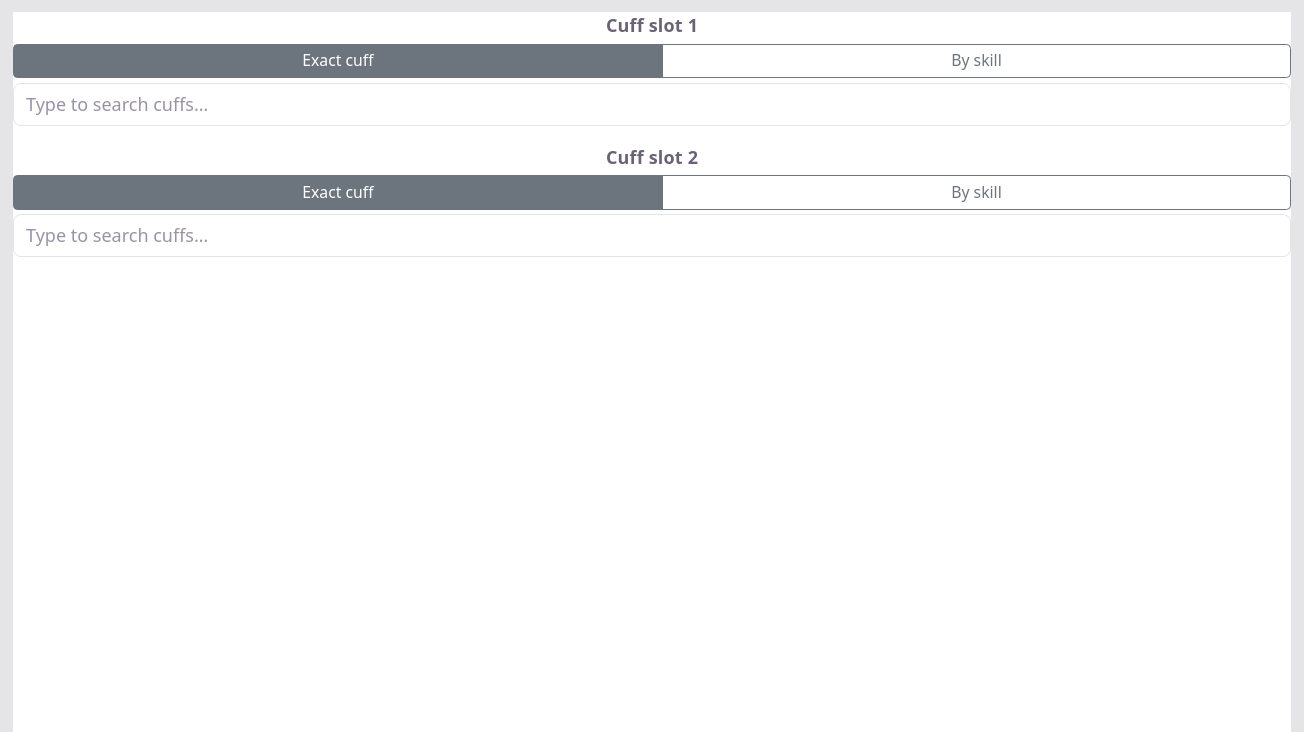
Test case: CuffPicker › shows the hovered cuff's skills in a persistent summary line below the results
Type "Sharp" into the field named "Search cuffs for Cuff slot 1".
click(652, 104); type("Sharp")  # box x1=13 y1=83 x2=1291 y2=126
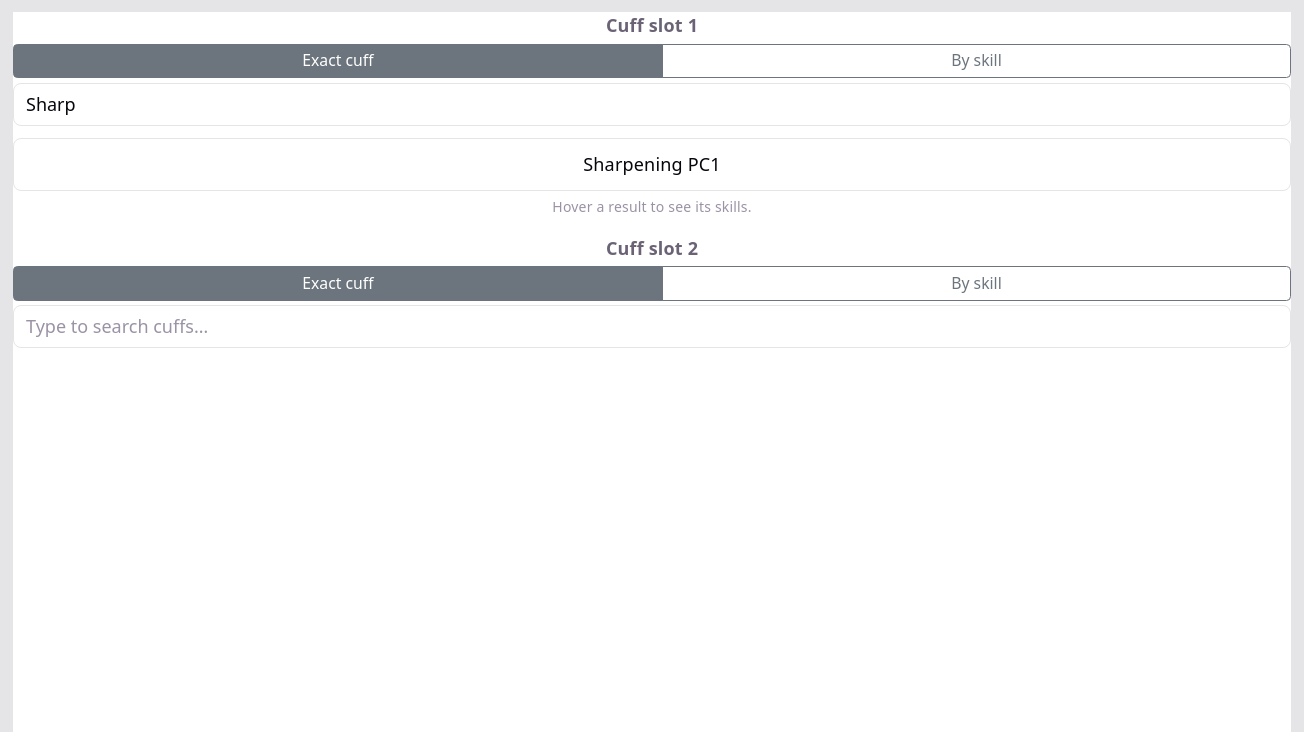
Hover over the option "Sharpening PC1".
mouse_move(652, 164)  # box x1=583 y1=152 x2=721 y2=176
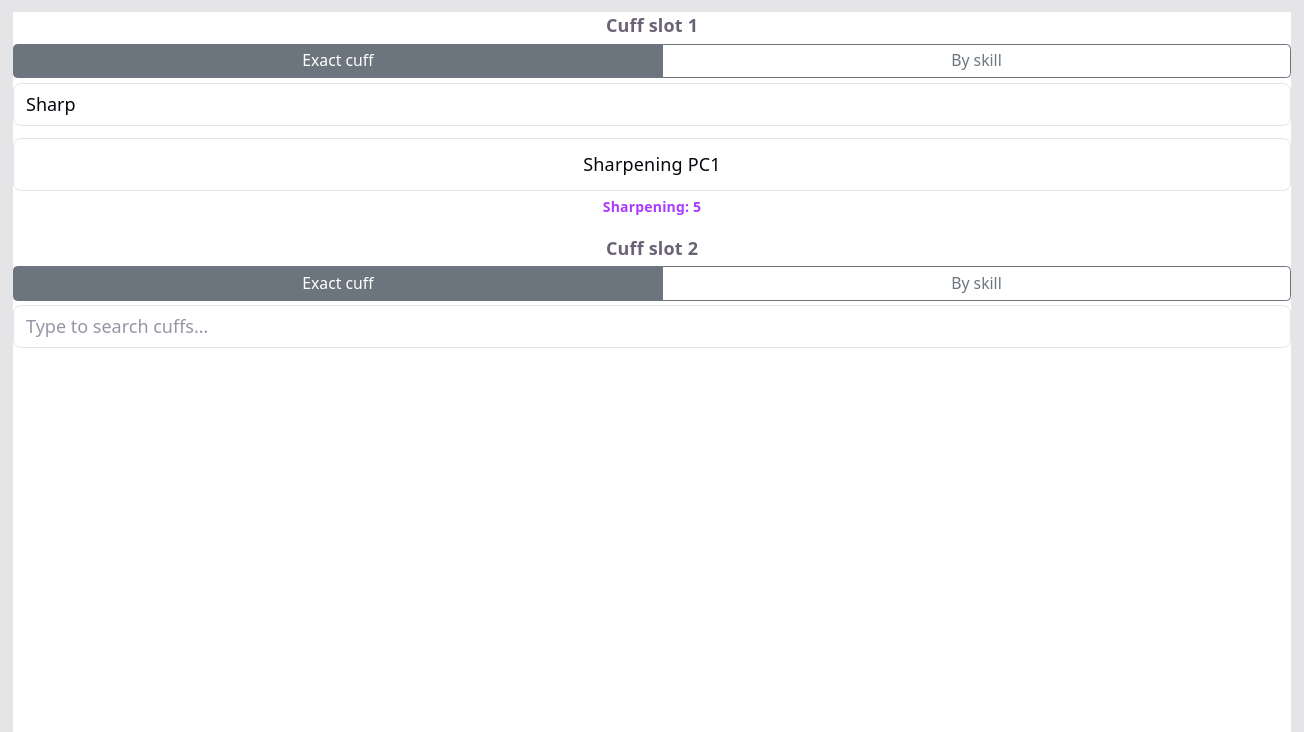
Now the text "Sharpening: 5" is shown, box x1=603 y1=197 x2=701 y2=216
Move the pointer off the option "Sharpening PC1", box x1=583 y1=152 x2=721 y2=176
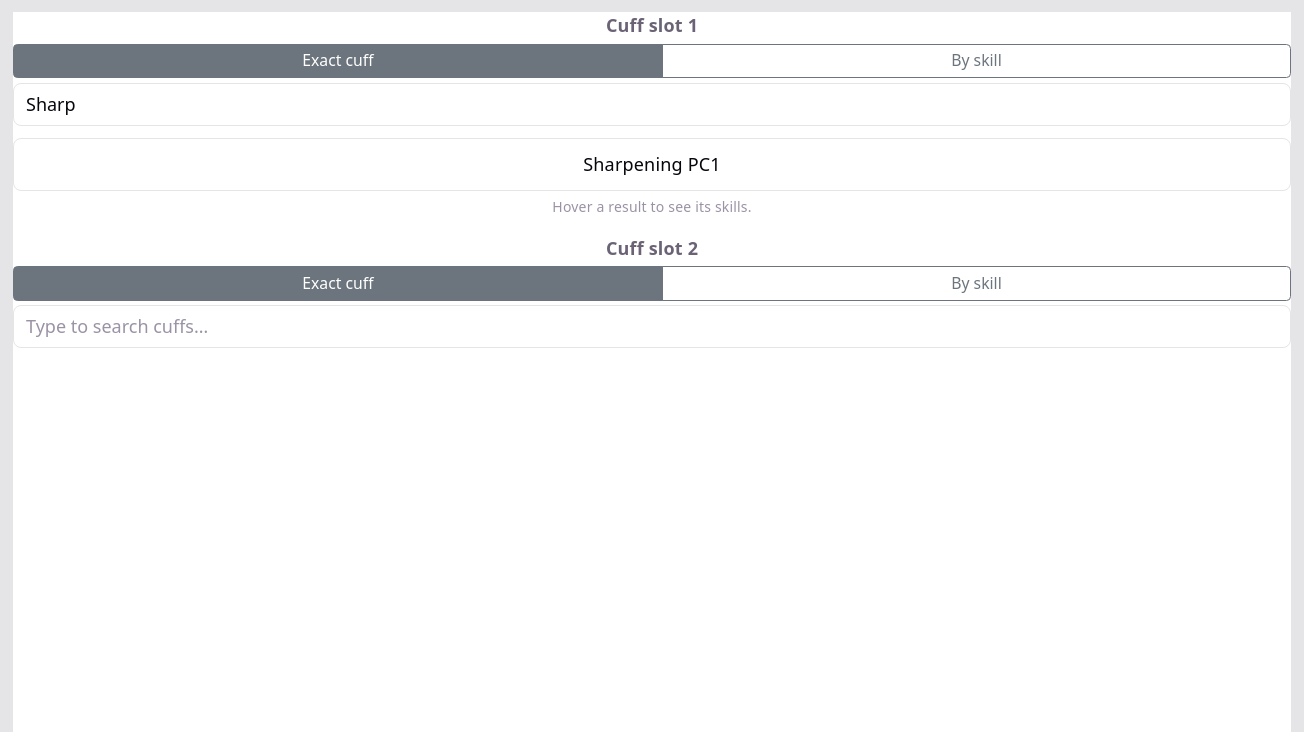
Now the text "Hover a result to see its skills." is shown, box x1=552 y1=197 x2=752 y2=216
